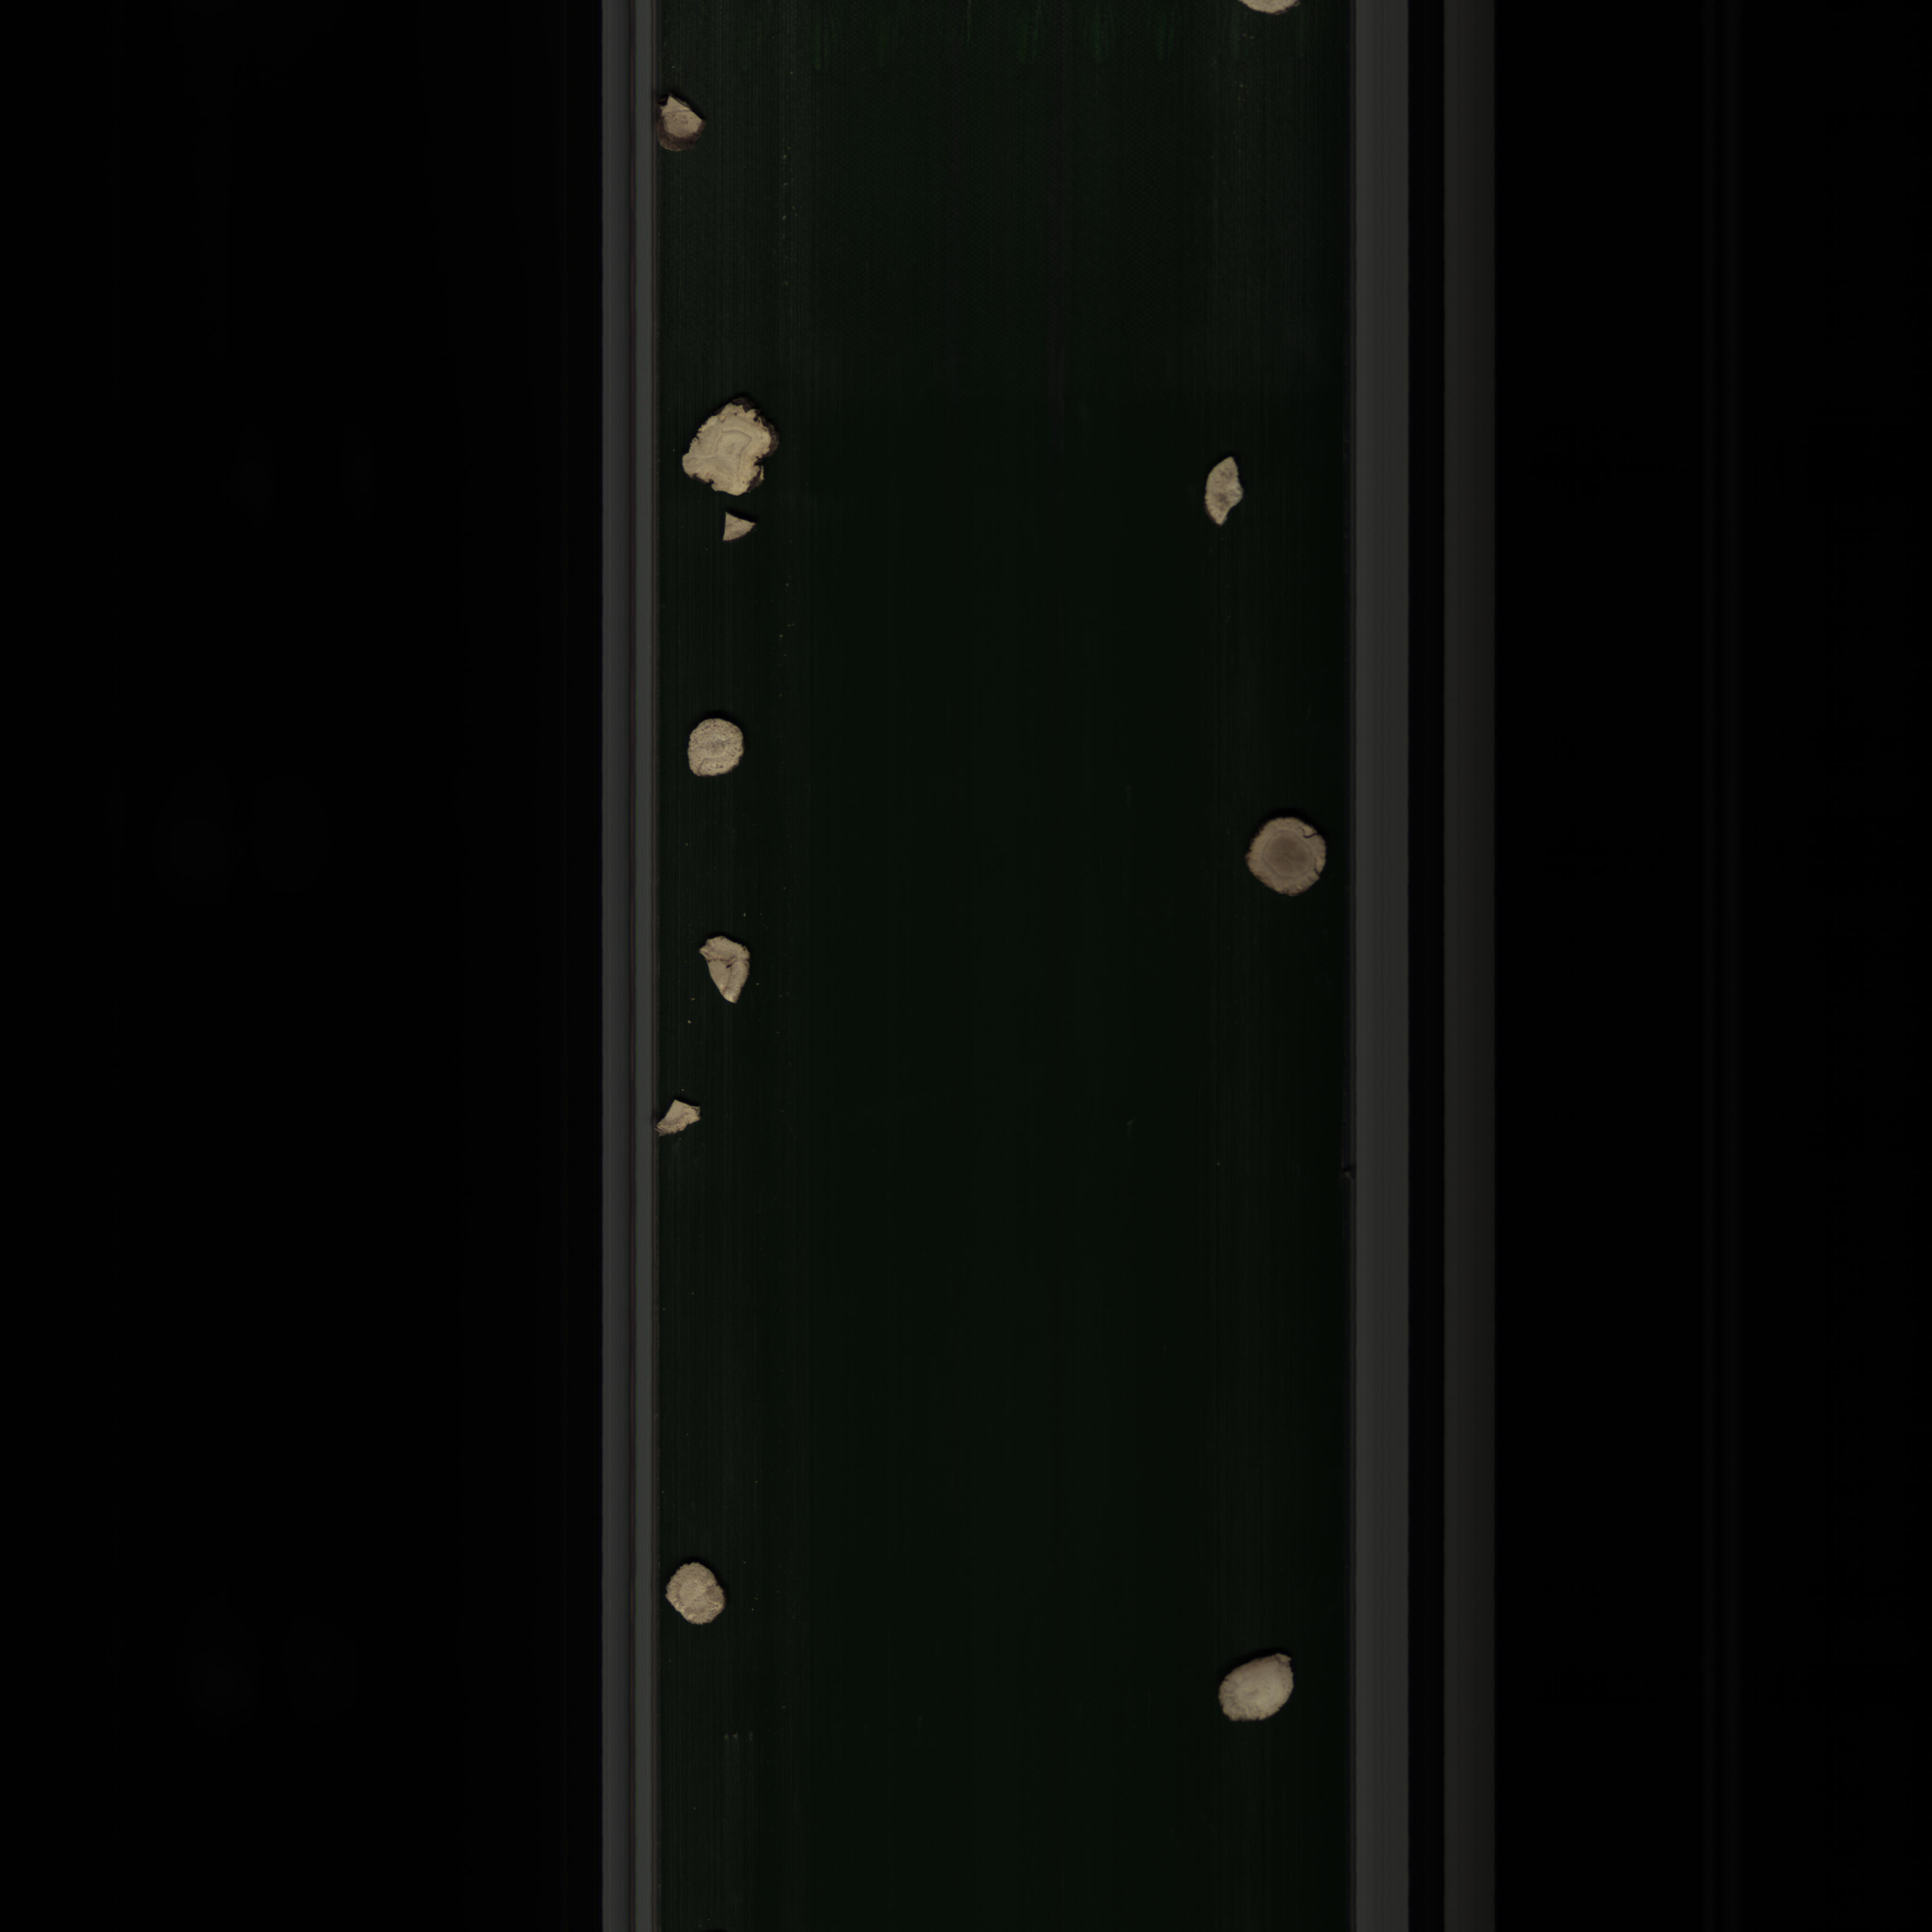bark: (646, 90, 713, 161), (713, 508, 766, 547)
debris: (692, 927, 755, 1014), (1196, 453, 1254, 531), (653, 1095, 711, 1143)
distortion: (678, 386, 789, 501)
moldy: (1233, 807, 1336, 913)
